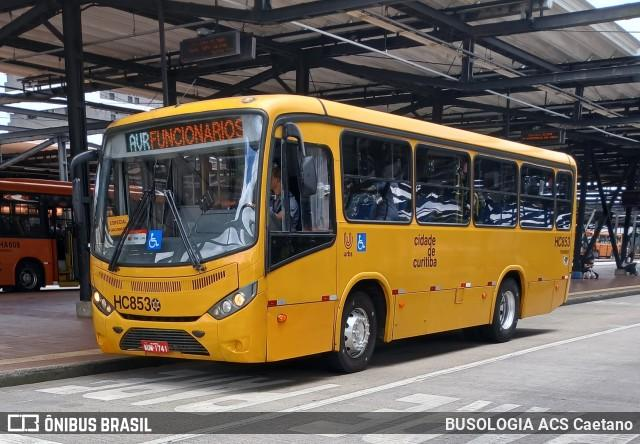FUNCIONARIOS: (144, 112, 247, 154)
